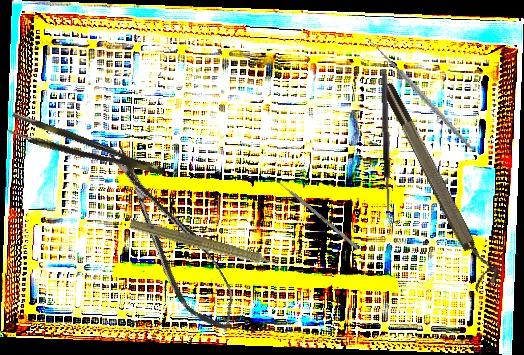Fixation Ring: (377, 76, 504, 293)
Handpiece: (127, 216, 288, 277)
Hook Surgical: (357, 19, 474, 168), (380, 68, 400, 224)
Micro Scissor: (96, 132, 250, 345)
Pusher: (269, 174, 360, 250)
Tissue Forceps: (5, 111, 167, 189)
